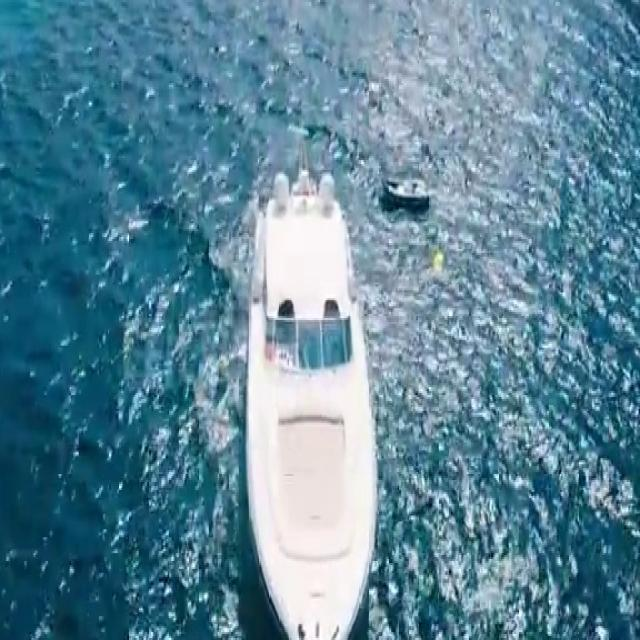houseboat: (246, 156, 376, 640)
